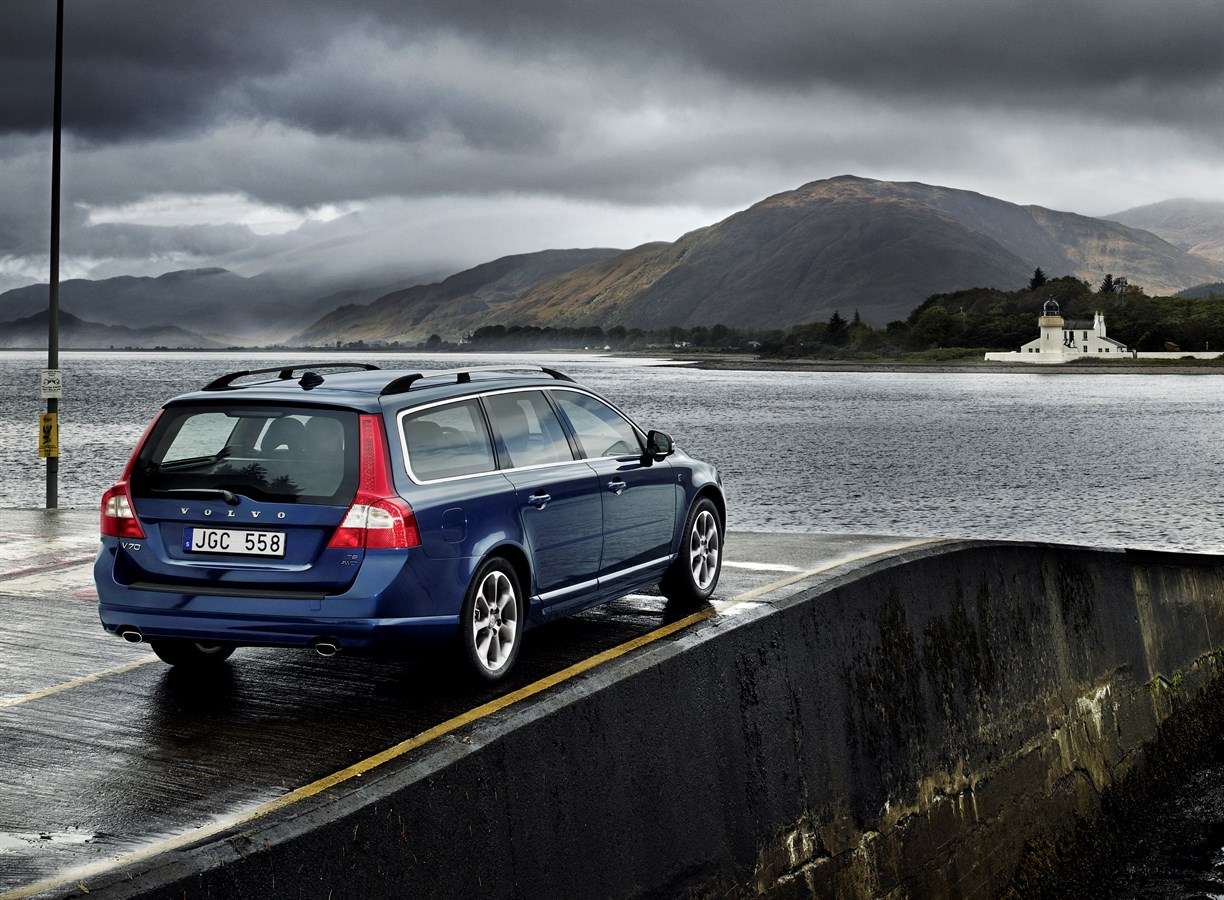other: (92, 374, 734, 666)
